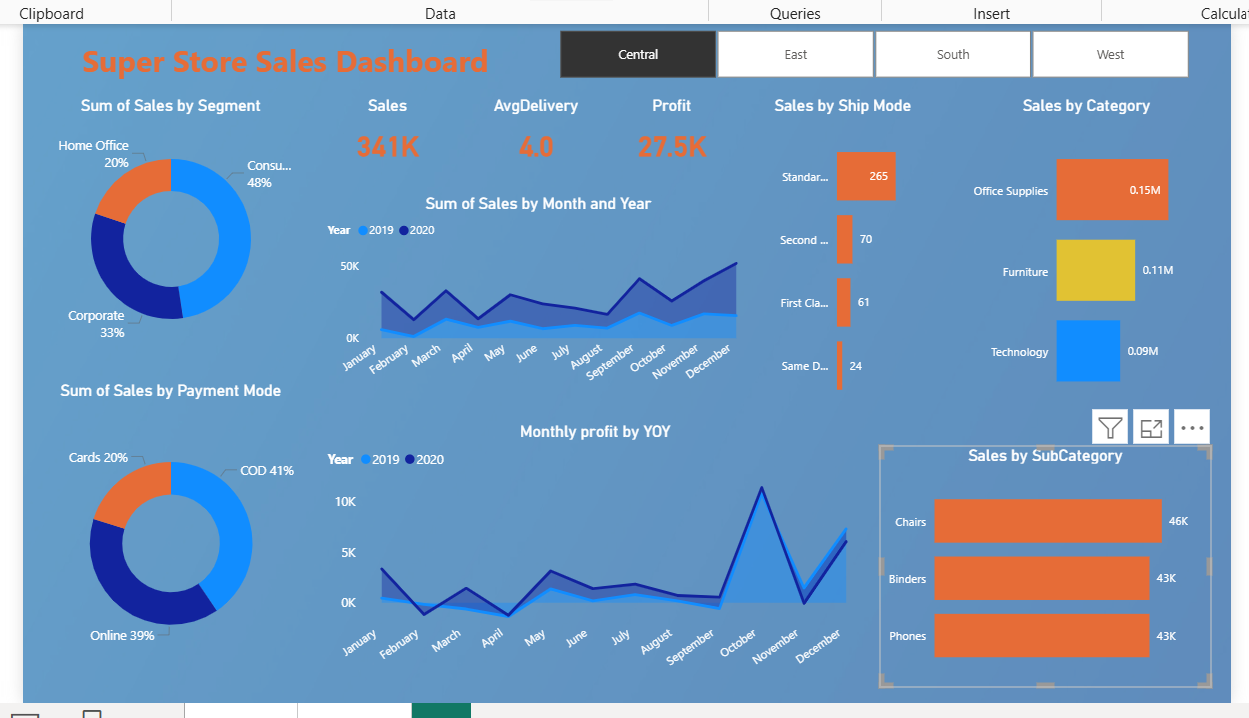

Layout of this report page (visuals, bound fields, positions):
{"tool":"powerbi","page":{"name":"Page 1","canvas":[1280,720],"ordinal":0},"visuals":[{"type":"clusteredBarChart","title":"Sales by Category","fields":{"Category":["SuperStore_Sales_Dataset.Category"],"Y":["Sum(SuperStore_Sales_Dataset.Sales)"]},"box":[995.7,76.3,264,345.2],"z":0},{"type":"clusteredBarChart","title":"Sales by SubCategory","fields":{"Y":["Sum(SuperStore_Sales_Dataset.Sales)"],"Category":["SuperStore_Sales_Dataset.Sub-Category"]},"box":[908.2,447,351.5,256.1],"z":1000},{"type":"clusteredBarChart","title":"Sales by Ship Mode","fields":{"Y":["CountNonNull(SuperStore_Sales_Dataset.Category)"],"Category":["SuperStore_Sales_Dataset.Ship Mode"]},"box":[785.8,76.3,167,345.2],"z":2000},{"type":"stackedAreaChart","fields":{"Y":["Sum(SuperStore_Sales_Dataset.Sales)"],"Category":["SuperStore_Sales_Dataset.Order Date.Variation.Date Hierarchy.Month","SuperStore_Sales_Dataset.Order Date.Variation.Date Hierarchy.Day"],"Series":["SuperStore_Sales_Dataset.Order Date.Variation.Date Hierarchy.Year"]},"box":[318.1,179.7,456.5,221.1],"z":3000},{"type":"stackedAreaChart","title":"Monthly profit by YOY","fields":{"Category":["SuperStore_Sales_Dataset.Order Date.Variation.Date Hierarchy.Month","SuperStore_Sales_Dataset.Order Date.Variation.Date Hierarchy.Day"],"Series":["SuperStore_Sales_Dataset.Order Date.Variation.Date Hierarchy.Year"],"Y":["Sum(SuperStore_Sales_Dataset.Profit)"]},"box":[318.1,421.5,577.4,281.5],"z":4000},{"type":"donutChart","fields":{"Category":["SuperStore_Sales_Dataset.Segment"],"Y":["Sum(SuperStore_Sales_Dataset.Sales)"]},"box":[12.7,76.3,287.9,283.1],"z":6000},{"type":"donutChart","fields":{"Category":["SuperStore_Sales_Dataset.Payment Mode"],"Y":["Sum(SuperStore_Sales_Dataset.Sales)"]},"box":[12.7,378.6,287.9,324.5],"z":7000},{"type":"slicer","fields":{"Values":["SuperStore_Sales_Dataset.Region"]},"box":[544,0,715.8,63.6],"z":8000},{"type":"textbox","box":[12.7,11.1,531.3,52.5],"z":9000},{"type":"card","title":"Sales","fields":{"Values":["Sum(SuperStore_Sales_Dataset.Sales)"]},"box":[318.1,76.3,136.8,82.7],"z":10000},{"type":"card","title":"AvgDelivery","fields":{"Values":["Avg(SuperStore_Sales_Dataset.AvgDelivery)"]},"box":[480.4,76.3,127.2,82.7],"z":11000},{"type":"card","title":"Profit","fields":{"Values":["Sum(SuperStore_Sales_Dataset.Profit)"]},"box":[623.5,76.3,128.8,82.7],"z":12000}]}

Visuals, with their boxes on the page's 1280x720 design canvas (x1, y1, x2, y2). These are canvas units, not pixel positions in the 1249x718 screenshot, which may show the page scaled, cropped or inside an application window:
"Sales by Category" clusteredBarChart: 996, 76, 1260, 422
"Sales by SubCategory" clusteredBarChart: 908, 447, 1260, 703
"Sales by Ship Mode" clusteredBarChart: 786, 76, 953, 422
stackedAreaChart - Sum(SuperStore_Sales_Dataset.Sales) x SuperStore_Sales_Dataset.Order Date.Variation.Date Hierarchy.Month: 318, 180, 775, 401
"Monthly profit by YOY" stackedAreaChart: 318, 422, 896, 703
donutChart - SuperStore_Sales_Dataset.Segment x Sum(SuperStore_Sales_Dataset.Sales): 13, 76, 301, 359
donutChart - SuperStore_Sales_Dataset.Payment Mode x Sum(SuperStore_Sales_Dataset.Sales): 13, 379, 301, 703
slicer - SuperStore_Sales_Dataset.Region: 544, 0, 1260, 64
textbox: 13, 11, 544, 64
"Sales" card: 318, 76, 455, 159
"AvgDelivery" card: 480, 76, 608, 159
"Profit" card: 624, 76, 752, 159
